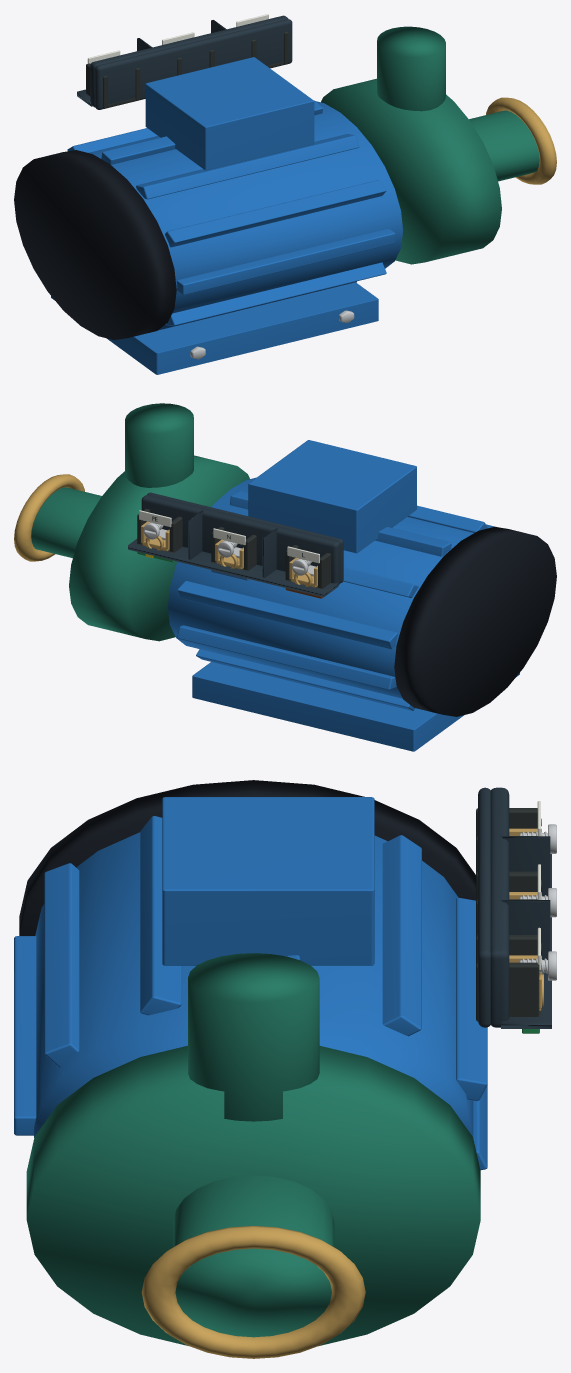
Rendered from pump_default.glb.
3 views of the same model, one above another, from view 1: azimuth 30°, elevation 25°; view 2: azimuth 150°, elevation 25°; view 3: azimuth 270°, elevation 25° (orthographic). The views are drawn at different scales.
Parts seen in each view (by area): view 1: part:body · Original 7cfa2338, part:body.001 · Original 9463cfd1, part:body, part:terminals · Original a463fd81, part:rotor.001, detail:terminal-clamp:L · Detail moulded engineering polymer; view 2: part:body · Original 7cfa2338, part:body.001 · Original 9463cfd1, part:body, part:terminals · Original a463fd81, part:rotor.001, detail:terminal-clamp:PE · Detail moulded engineering polyme, detail:terminal-clamp:L · Detail moulded engineering polymer, detail:terminal-clamp:N · Detail moulded engineering polymer; view 3: part:body.001 · Original 9463cfd1, part:body · Original 7cfa2338, part:rotor.001, part:terminals · Original a463fd81, part:body, detail:terminal-clamp:PE · Detail moulded engineering polyme, detail:terminal-clamp:N · Detail moulded engineering polymer, detail:terminal-clamp:L · Detail moulded engineering polymer.
Boxes of the visible parts, x1=… form: part:body · Original 7cfa2338: x1=51, y1=57, x2=403, y2=374; part:body.001 · Original 9463cfd1: x1=321, y1=26, x2=539, y2=264; part:body: x1=14, y1=150, x2=176, y2=340; part:terminals · Original a463fd81: x1=77, y1=15, x2=292, y2=109; part:rotor.001: x1=486, y1=97, x2=556, y2=184; detail:terminal-clamp:L · Detail moulded engineering polymer: x1=86, y1=63, x2=140, y2=108; part:body · Original 7cfa2338: x1=168, y1=440, x2=519, y2=751; part:body.001 · Original 9463cfd1: x1=31, y1=403, x2=249, y2=641; part:body: x1=394, y1=526, x2=556, y2=716; part:terminals · Original a463fd81: x1=128, y1=492, x2=343, y2=597; part:rotor.001: x1=14, y1=474, x2=84, y2=561; detail:terminal-clamp:PE · Detail moulded engineering polyme: x1=137, y1=508, x2=182, y2=552; detail:terminal-clamp:L · Detail moulded engineering polymer: x1=285, y1=545, x2=330, y2=588; detail:terminal-clamp:N · Detail moulded engineering polymer: x1=211, y1=527, x2=256, y2=570; part:body.001 · Original 9463cfd1: x1=26, y1=953, x2=480, y2=1346; part:body · Original 7cfa2338: x1=14, y1=797, x2=487, y2=1170; part:rotor.001: x1=141, y1=1226, x2=365, y2=1358; part:terminals · Original a463fd81: x1=478, y1=787, x2=551, y2=1028; part:body: x1=19, y1=780, x2=475, y2=935; detail:terminal-clamp:PE · Detail moulded engineering polyme: x1=476, y1=935, x2=540, y2=1021; detail:terminal-clamp:N · Detail moulded engineering polymer: x1=476, y1=871, x2=537, y2=936; detail:terminal-clamp:L · Detail moulded engineering polymer: x1=476, y1=808, x2=537, y2=873.
Size of the model in its own units: 1.6 by 0.749 by 0.9599.
